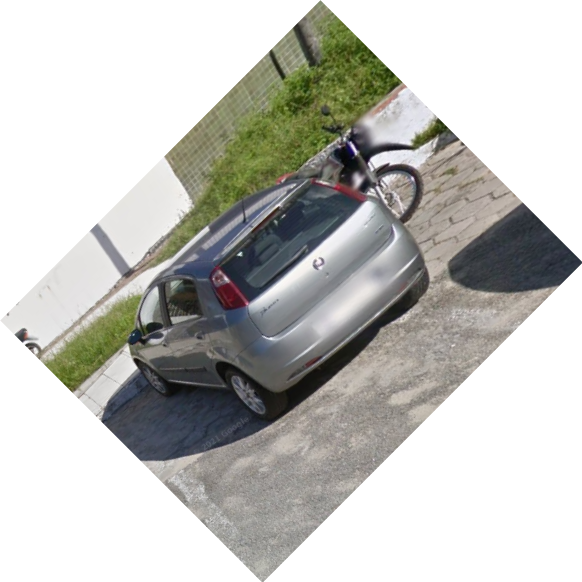car: (122, 176, 430, 440)
